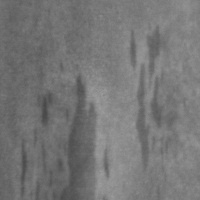inclusion: (126, 23, 179, 171), (61, 69, 115, 199), (17, 123, 65, 198), (36, 86, 58, 132)
